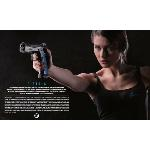Pistol: (17, 38, 53, 82)
